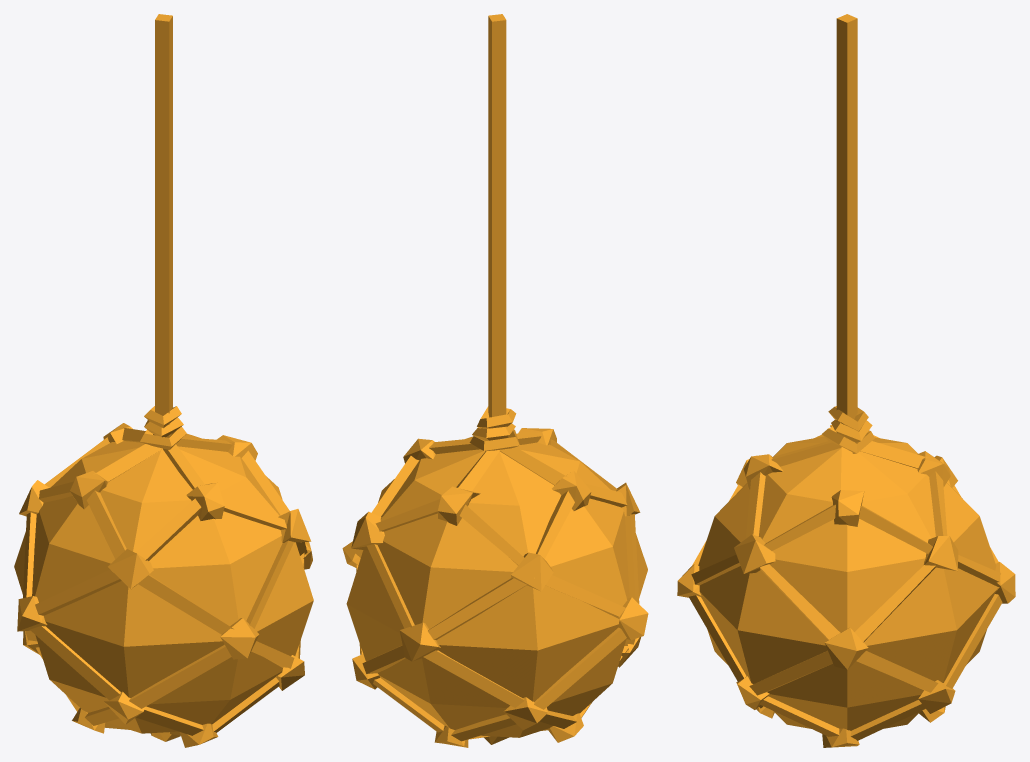
The model's file is SM_Lamp_Potion_Fantasy.fbx.
The picture shows the model from 3 angles, left to right: view 1: azimuth 30°, elevation 25°; view 2: azimuth 150°, elevation 25°; view 3: azimuth 270°, elevation 25°; orthographic projection.
Visible parts, largest first — view 1: lamp-potion-fantasy; view 2: lamp-potion-fantasy; view 3: lamp-potion-fantasy.
Part boxes in pixels (<box>): lamp-potion-fantasy: <box>14,14,313,747</box>; lamp-potion-fantasy: <box>342,14,648,747</box>; lamp-potion-fantasy: <box>677,14,1015,747</box>.
Size of the model in its own units: 0.3727 by 0.8652 by 0.3694.
